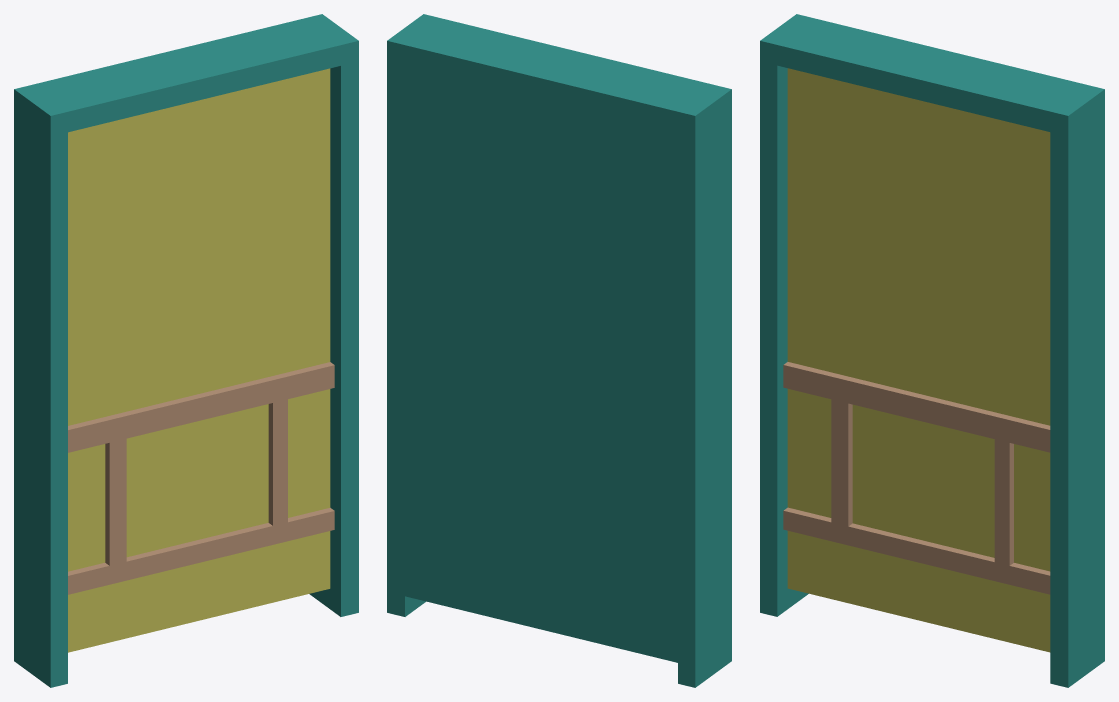
The model's file is SM_DoorFrame.fbx.
3 views of the same model, side by side, from view 1: azimuth 30°, elevation 25°; view 2: azimuth 150°, elevation 25°; view 3: azimuth 330°, elevation 25° (orthographic).
Visible parts, largest first — view 1: SM_Door_withFrame; view 2: SM_Door_withFrame; view 3: SM_Door_withFrame.
Boxes of the visible parts, x1,y1,x2,y2 form: SM_Door_withFrame: [14, 14, 358, 687]; SM_Door_withFrame: [387, 14, 731, 687]; SM_Door_withFrame: [760, 14, 1104, 687].
Size of the model in its own units: 104 by 185 by 21.39.
